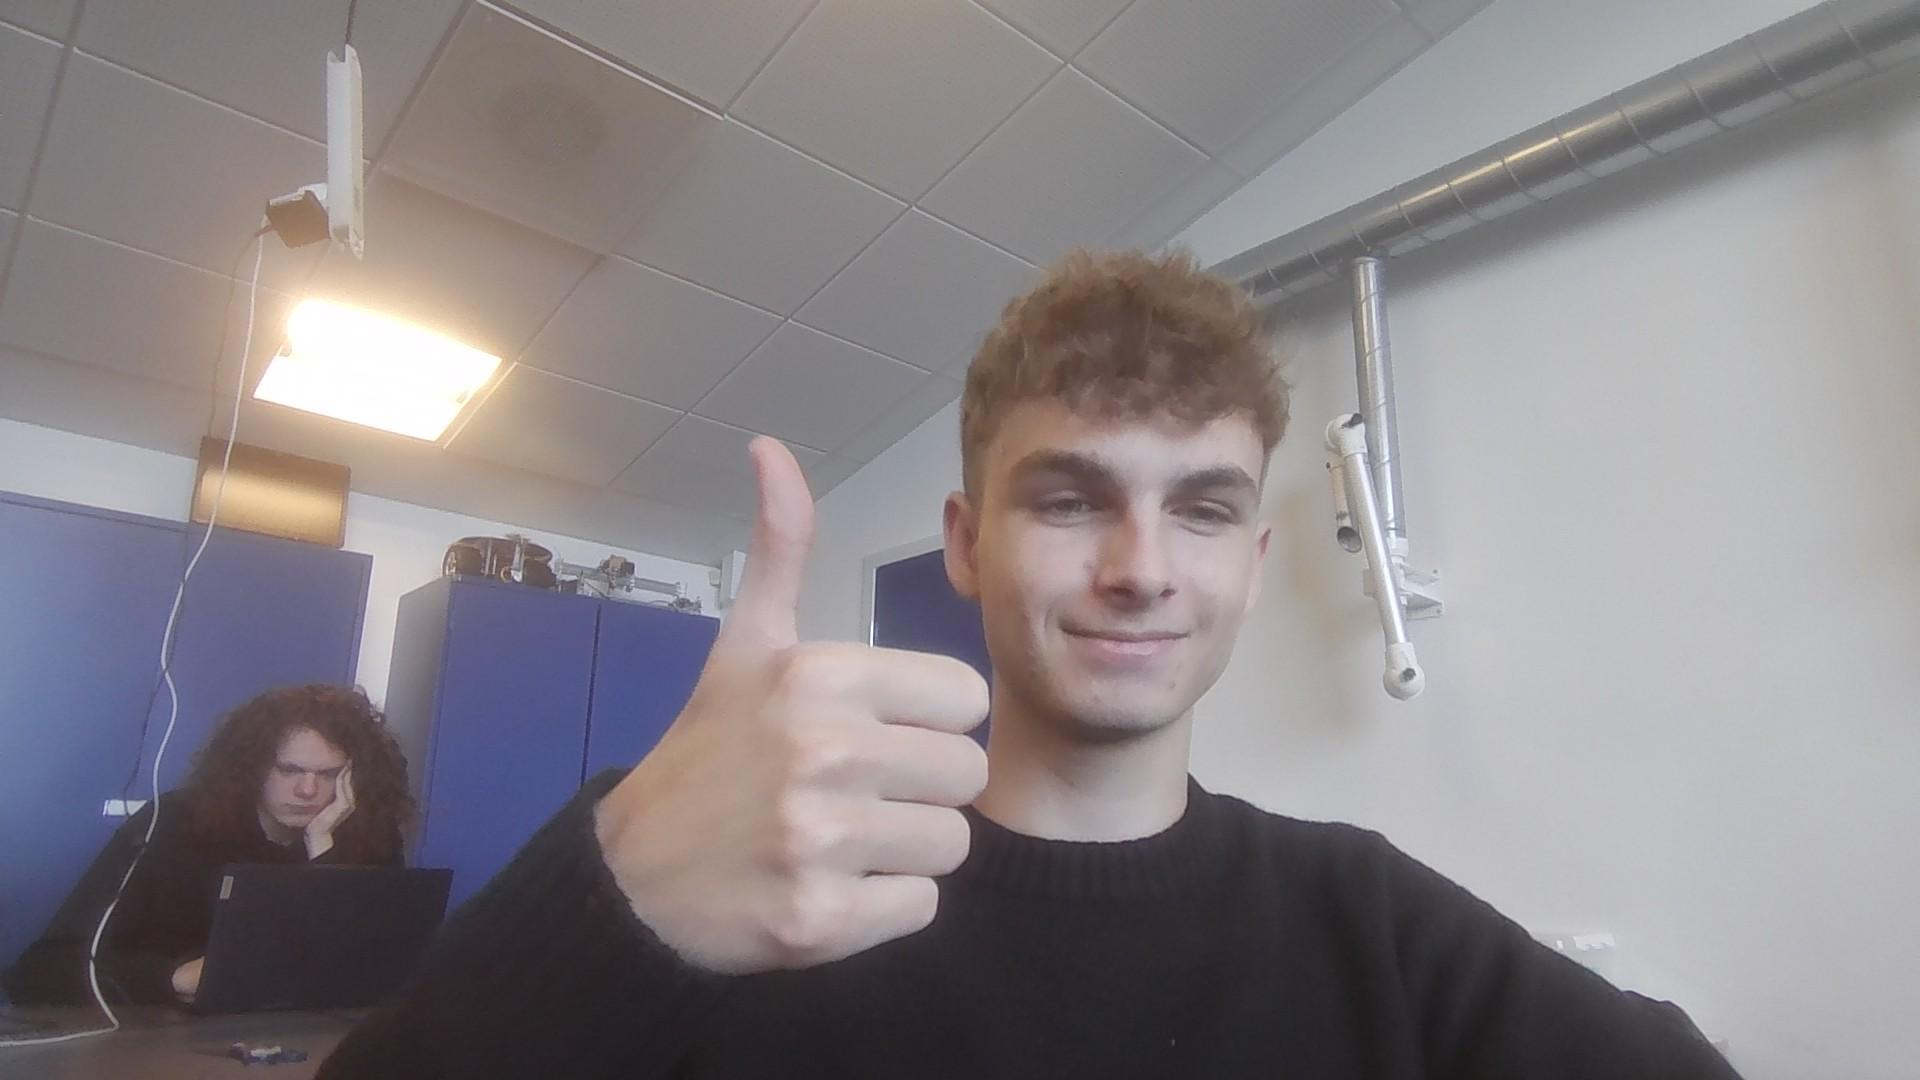thumbs up: (650, 436, 993, 975)
